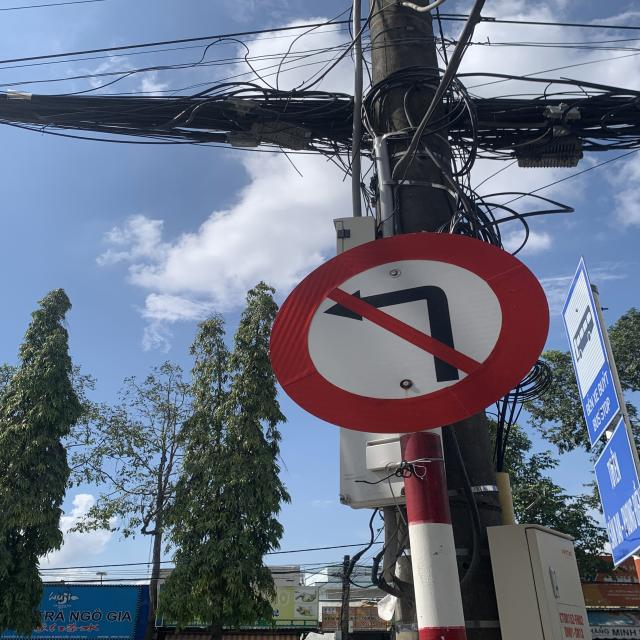Cam_Re_Trai: (268, 232, 550, 434)
